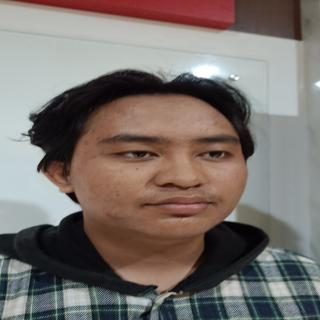Netral: (75, 89, 255, 246)
